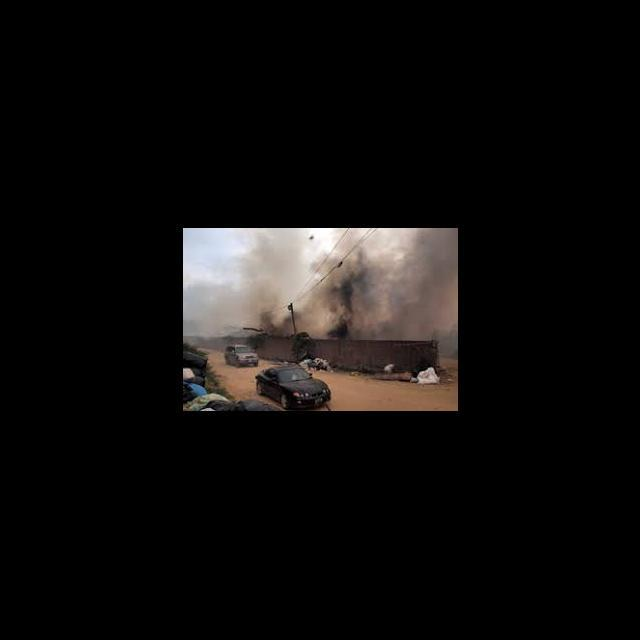Smoke: (379, 228, 457, 336), (226, 232, 298, 292), (347, 262, 376, 336), (184, 285, 220, 327), (326, 278, 345, 336), (223, 294, 260, 315), (310, 292, 324, 334), (298, 302, 308, 328)
